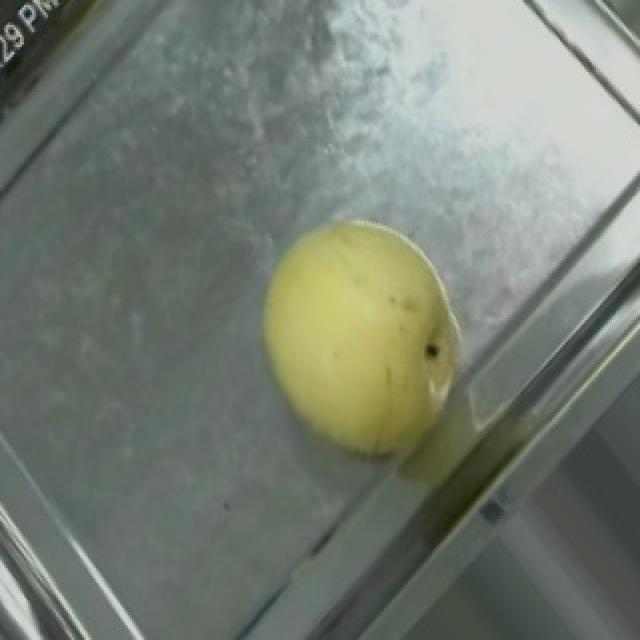Fruit: (214, 181, 516, 501)
